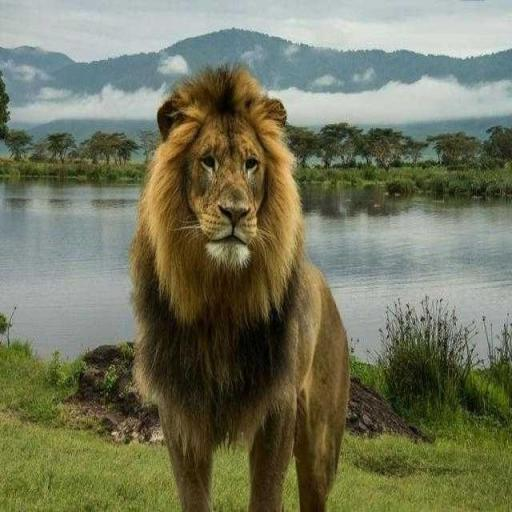Lion: (127, 64, 351, 512)
